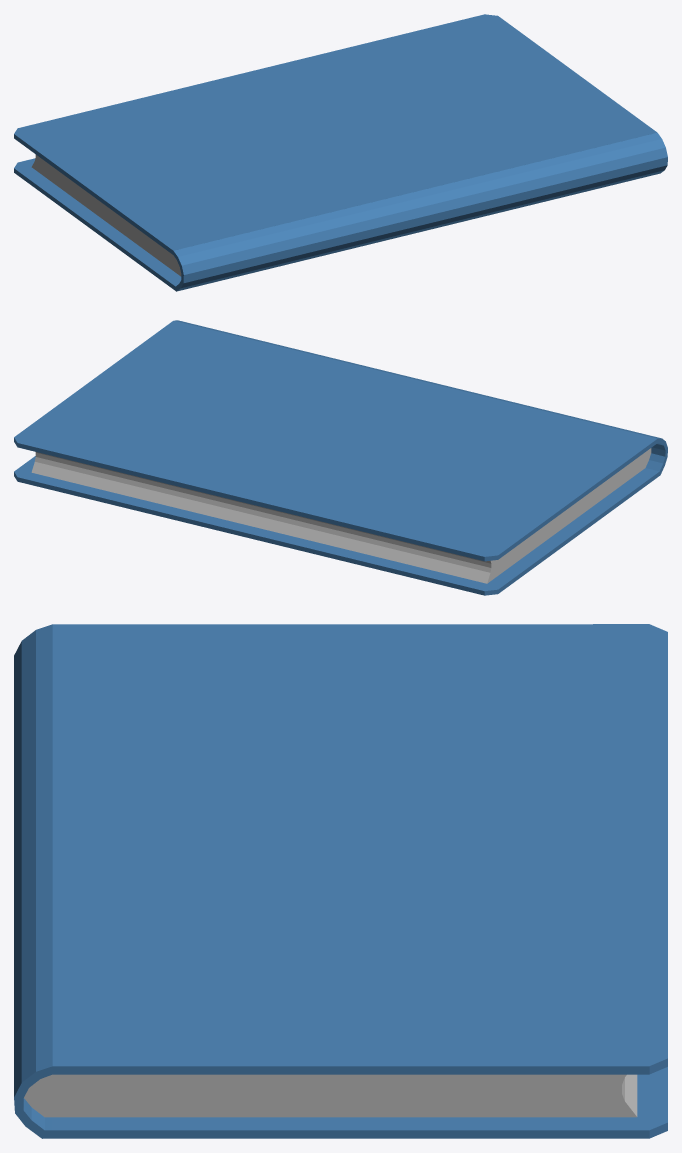
The model's file is low_poly_bookdiary.glb.
3 views of the same model, one above another, from view 1: azimuth 30°, elevation 25°; view 2: azimuth 150°, elevation 25°; view 3: azimuth 270°, elevation 25° (orthographic). The views are drawn at different scales.
Parts seen in each view (by area): view 1: Cover, Pages; view 2: Cover, Pages; view 3: Cover, Pages.
Boxes of the visible parts, bbox=[...] form: Cover: bbox=[14, 14, 667, 291]; Pages: bbox=[31, 154, 181, 276]; Cover: bbox=[14, 320, 667, 595]; Pages: bbox=[31, 448, 651, 583]; Cover: bbox=[14, 624, 667, 1138]; Pages: bbox=[24, 1074, 637, 1117].
Bounding box in the file's own units: 0.3396 × 0.026 × 0.2124.
